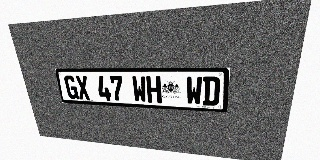4: (96, 76, 112, 101)
7: (109, 76, 125, 102)
D: (202, 76, 220, 106)
G: (63, 75, 79, 99)
H: (146, 76, 162, 103)
W: (186, 76, 202, 105), (131, 76, 147, 103)
X: (75, 76, 91, 100)
